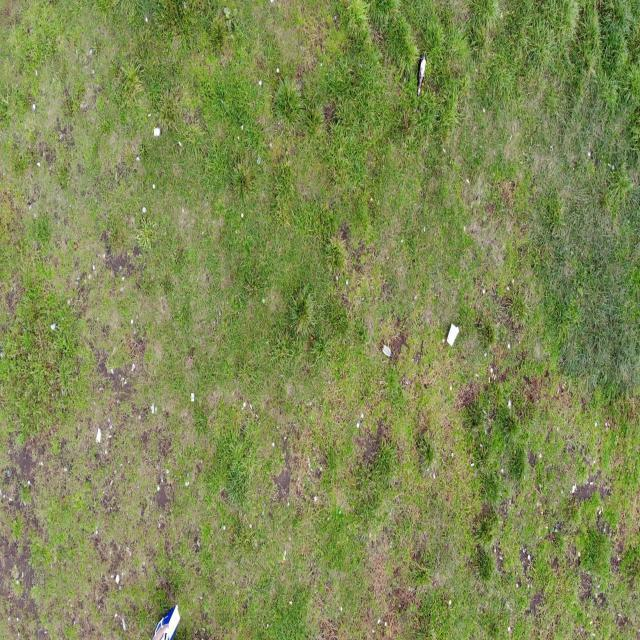rubbish: (153, 602, 181, 640), (417, 49, 429, 97), (446, 323, 461, 347), (153, 127, 161, 138)
